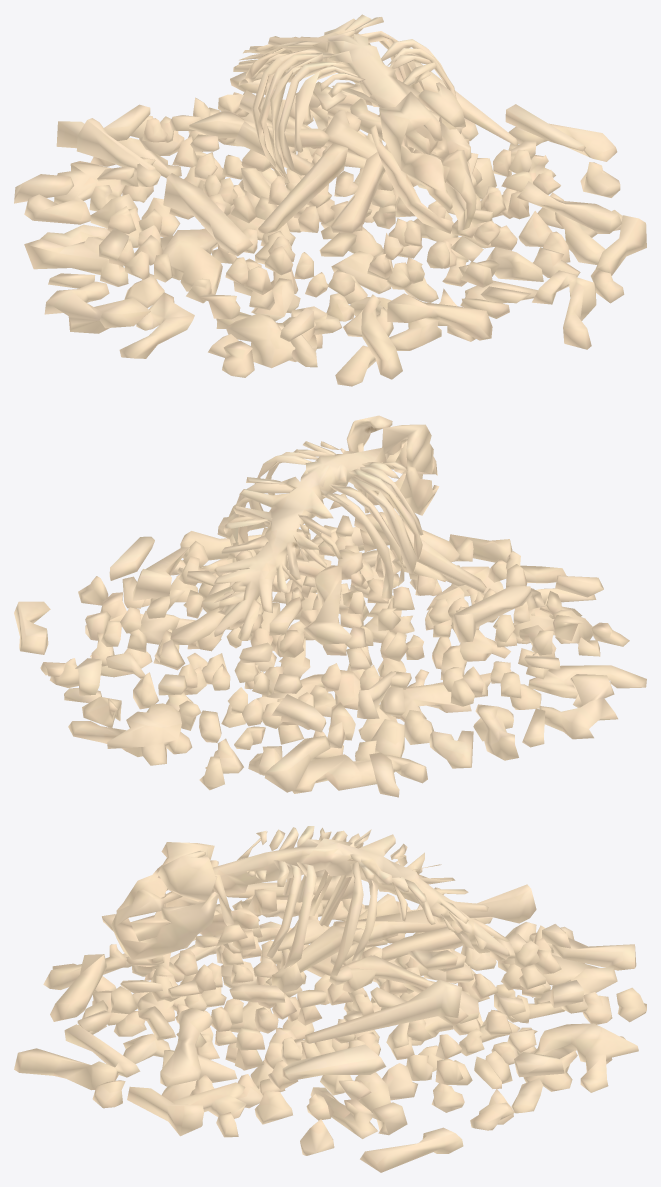
Rendered from bone_pile.glb.
The picture shows the model from 3 angles, top to bottom: view 1: azimuth 30°, elevation 25°; view 2: azimuth 150°, elevation 25°; view 3: azimuth 270°, elevation 25°; orthographic projection. The views are drawn at different scales.
Parts seen in each view (by area): view 1: 0; view 2: 0; view 3: 0.
Boxes of the visible parts, left/top/right/bottom form: 0: left=14, top=14, right=646, bottom=386; 0: left=14, top=415, right=646, bottom=797; 0: left=14, top=826, right=646, bottom=1172.
Bounding box in the file's own units: 1.9 × 0.6459 × 1.86.
1 material, 1 textured.
